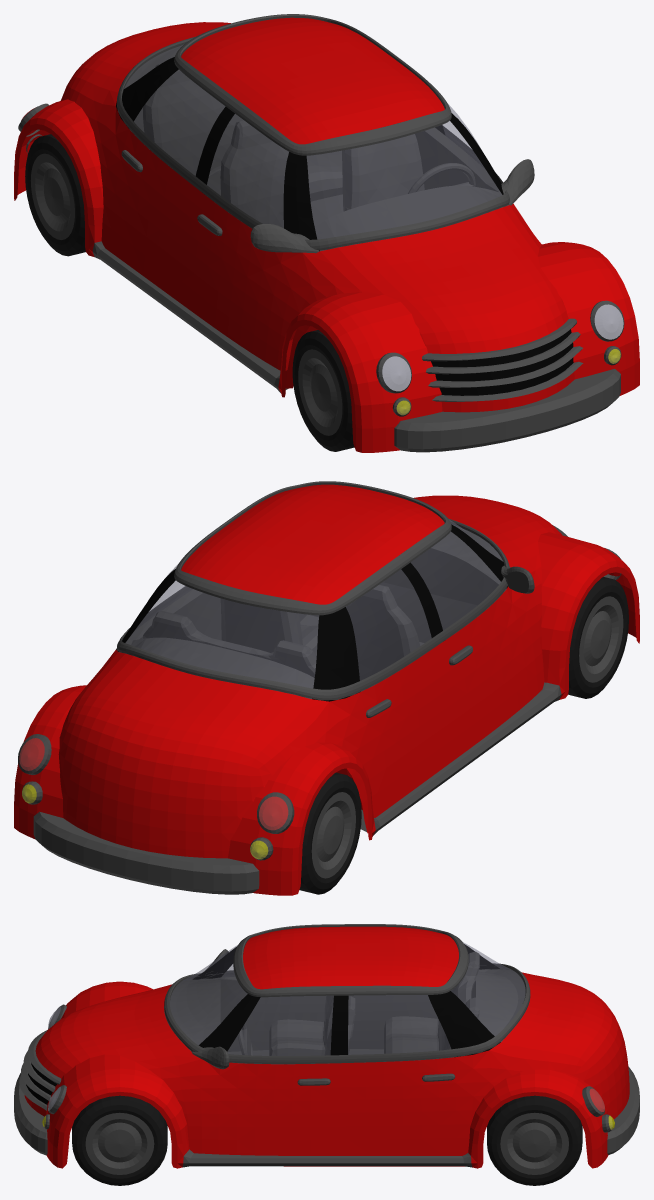
The model's file is concept-sedan-01v1.obj.
3 views of the same model, one above another, from view 1: azimuth 30°, elevation 25°; view 2: azimuth 150°, elevation 25°; view 3: azimuth 270°, elevation 25° (orthographic). The views are drawn at different scales.
Parts seen in each view (by area): view 1: Car_body.001_Mesh.001_Car, Car_body.001_Mesh.001_Glass, Car_fenders_Car_fenders_Car, Car_body.002_Mesh.002_Chrome, Front_seats_Front_seats_Interior, Car_body.001_Mesh.001_Black_matte, Bumper_Bumper_Chrome, Interior_Interior_Interior, Rear_seats_Rear_seats_Interior, Grill_Grill_Chrome, Car_fenders_Car_fenders_Chrome, Tire.001_Tire.001_Chrome (+9 smaller); view 2: Car_body.001_Mesh.001_Car, Car_body.001_Mesh.001_Glass, Car_fenders_Car_fenders_Car, Interior_Interior_Interior, Car_body.002_Mesh.002_Chrome, Bumper_Bumper_Chrome, Front_seats_Front_seats_Interior, Car_body.001_Mesh.001_Black_matte, Car_fenders_Car_fenders_Chrome, Rear_seats_Rear_seats_Interior, Tire.001_Tire.001_Chrome, Tire.002_Tire.002_Chrome (+5 smaller); view 3: Car_body.001_Mesh.001_Car, Car_body.001_Mesh.001_Glass, Car_fenders_Car_fenders_Car, Interior_Interior_Interior, Car_body.002_Mesh.002_Chrome, Car_body.001_Mesh.001_Black_matte, Tire_Tire_Tire_Rubber, Tire.003_Tire.003_Tire_Rubber, Tire_Tire_Chrome, Tire.003_Tire.003_Chrome, Car_fenders_Car_fenders_Chrome, Rear_seats_Rear_seats_Interior (+5 smaller).
Part boxes in pixels (box(x1,y1,x2,y2)): Car_body.001_Mesh.001_Car: box(49, 17, 574, 412); Car_body.001_Mesh.001_Glass: box(124, 44, 507, 250); Car_fenders_Car_fenders_Car: box(14, 99, 639, 452); Car_body.002_Mesh.002_Chrome: box(117, 14, 509, 250); Front_seats_Front_seats_Interior: box(220, 120, 424, 227); Car_body.001_Mesh.001_Black_matte: box(116, 57, 573, 395); Bumper_Bumper_Chrome: box(394, 369, 620, 452); Interior_Interior_Interior: box(124, 45, 508, 251); Rear_seats_Rear_seats_Interior: box(143, 64, 342, 201); Grill_Grill_Chrome: box(422, 318, 583, 401); Car_fenders_Car_fenders_Chrome: box(92, 241, 287, 392); Tire.001_Tire.001_Chrome: box(298, 349, 342, 435); Car_body.001_Mesh.001_Car: box(58, 484, 561, 858); Car_body.001_Mesh.001_Glass: box(126, 519, 506, 698); Car_fenders_Car_fenders_Car: box(14, 532, 639, 895); Interior_Interior_Interior: box(119, 525, 506, 699); Car_body.002_Mesh.002_Chrome: box(117, 481, 509, 700); Bumper_Bumper_Chrome: box(33, 811, 259, 894); Front_seats_Front_seats_Interior: box(220, 584, 420, 680); Car_body.001_Mesh.001_Black_matte: box(116, 524, 507, 701); Car_fenders_Car_fenders_Chrome: box(360, 682, 561, 835); Rear_seats_Rear_seats_Interior: box(143, 611, 316, 677); Tire.001_Tire.001_Chrome: box(579, 596, 623, 682); Tire.002_Tire.002_Chrome: box(311, 792, 355, 878); Car_body.001_Mesh.001_Car: box(24, 926, 629, 1166); Car_body.001_Mesh.001_Glass: box(170, 942, 525, 1055); Car_fenders_Car_fenders_Car: box(46, 981, 608, 1168); Interior_Interior_Interior: box(164, 969, 529, 1064); Car_body.002_Mesh.002_Chrome: box(164, 924, 530, 1064); Car_body.001_Mesh.001_Black_matte: box(26, 944, 500, 1104); Tire_Tire_Tire_Rubber: box(72, 1095, 167, 1185); Tire.003_Tire.003_Tire_Rubber: box(487, 1095, 582, 1185); Tire_Tire_Chrome: box(85, 1112, 154, 1174); Tire.003_Tire.003_Chrome: box(500, 1112, 568, 1174); Car_fenders_Car_fenders_Chrome: box(182, 1149, 472, 1167); Rear_seats_Rear_seats_Interior: box(384, 951, 479, 1053).
Bounding box in the file's own units: 10.42 × 8.45 × 25.69.
